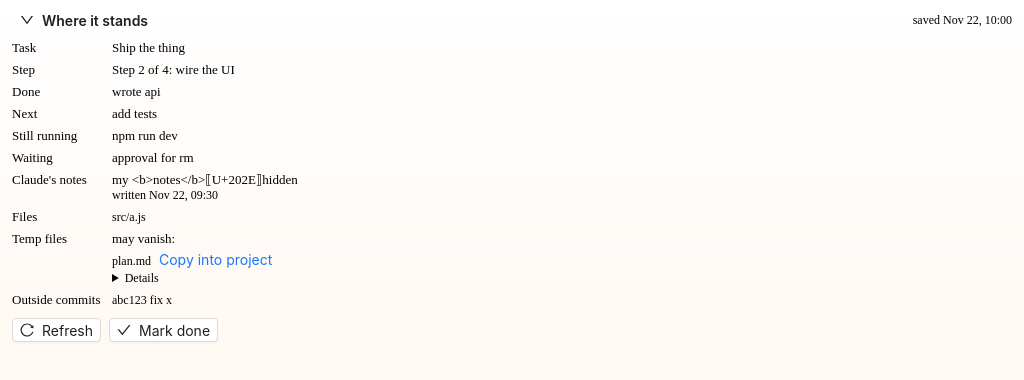
Test: HandoffCard › shows an action error
Step 1. Click the button "Refresh" → (56, 330), box [12,318,101,342]
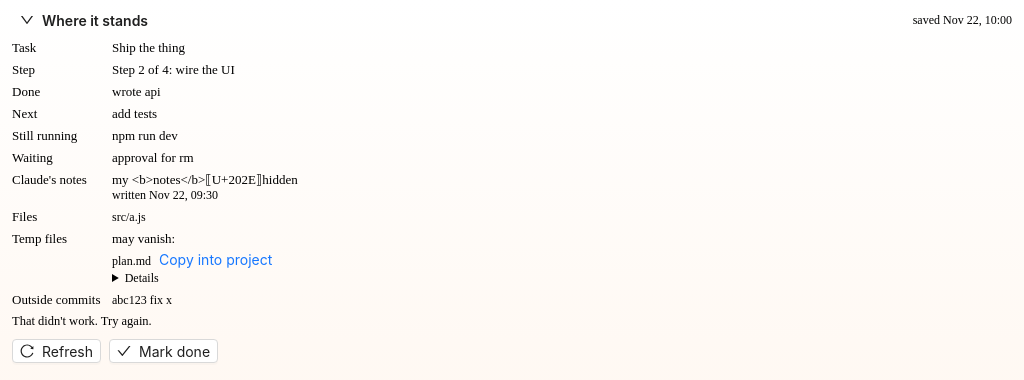
Check: the text "That didn't work. Try again." is shown, box [12,314,152,328]
